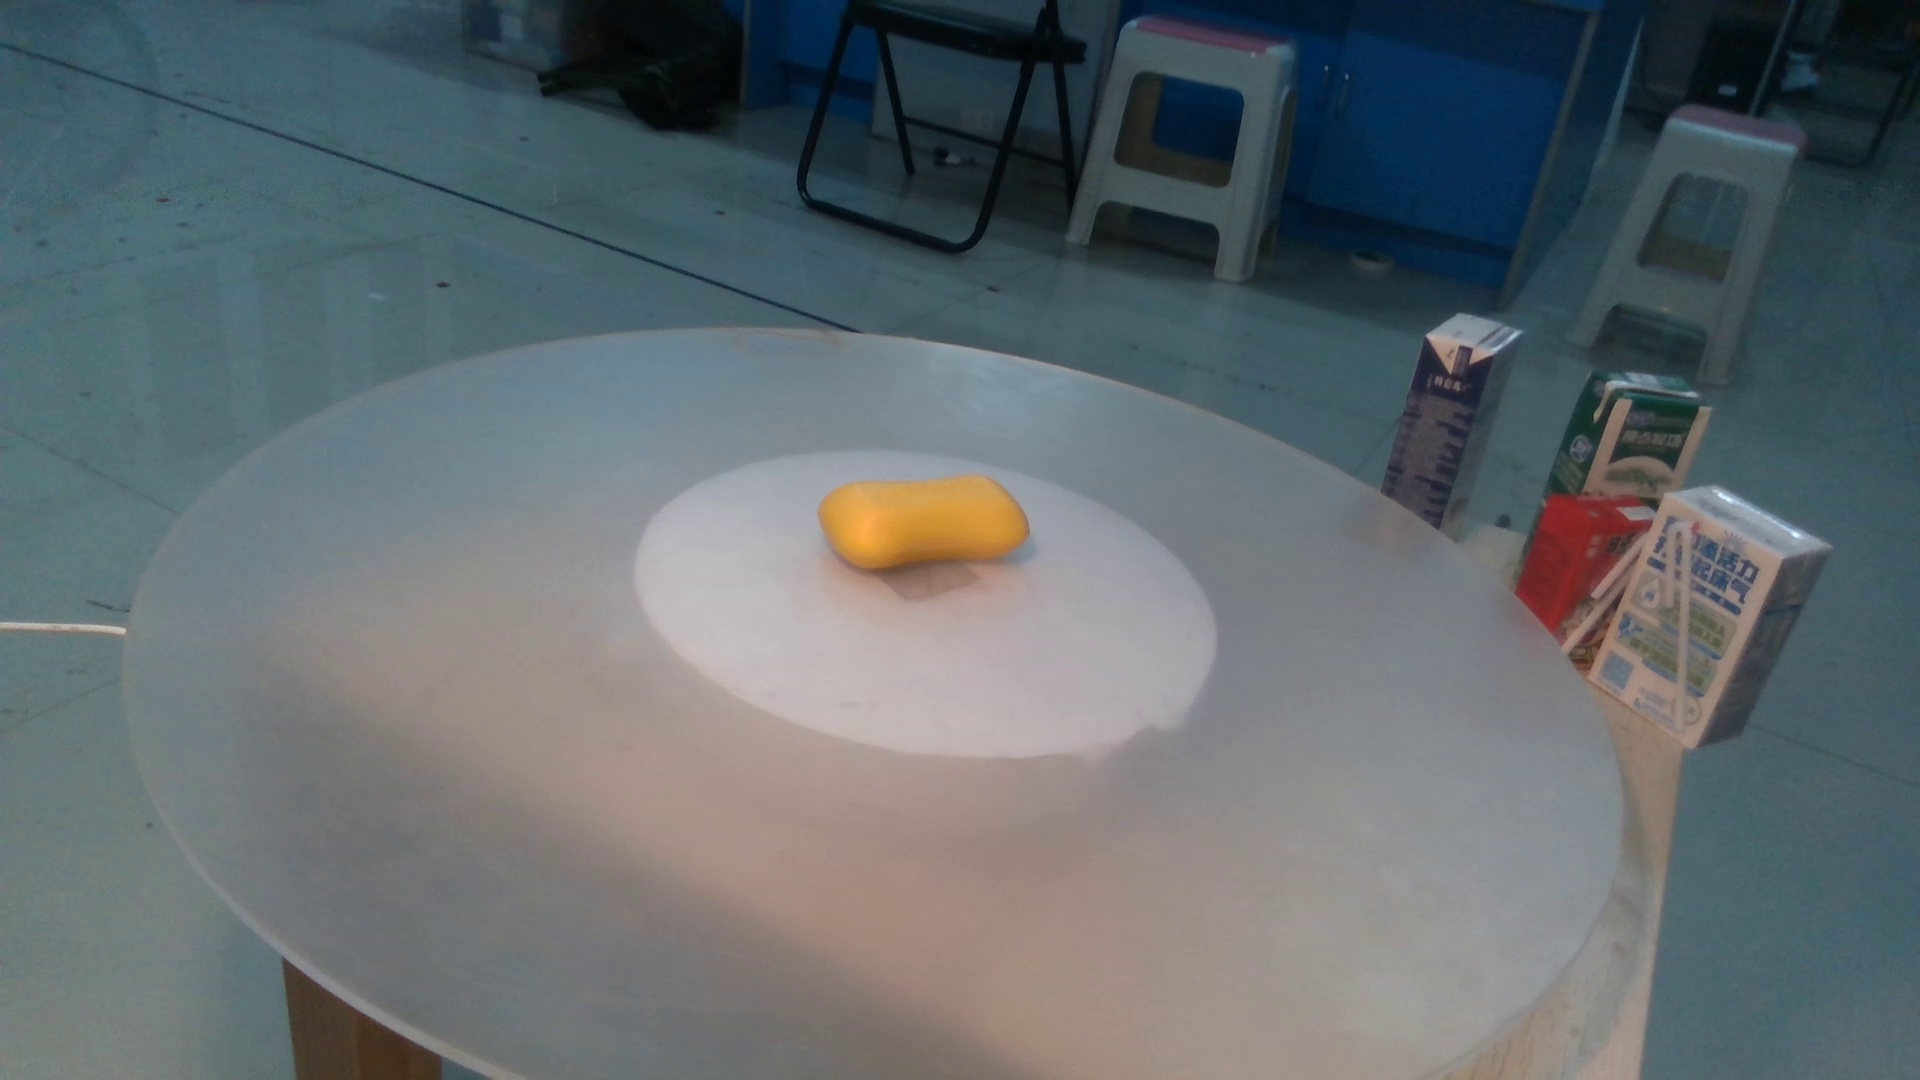CA003_1: (800, 435, 1042, 595)
